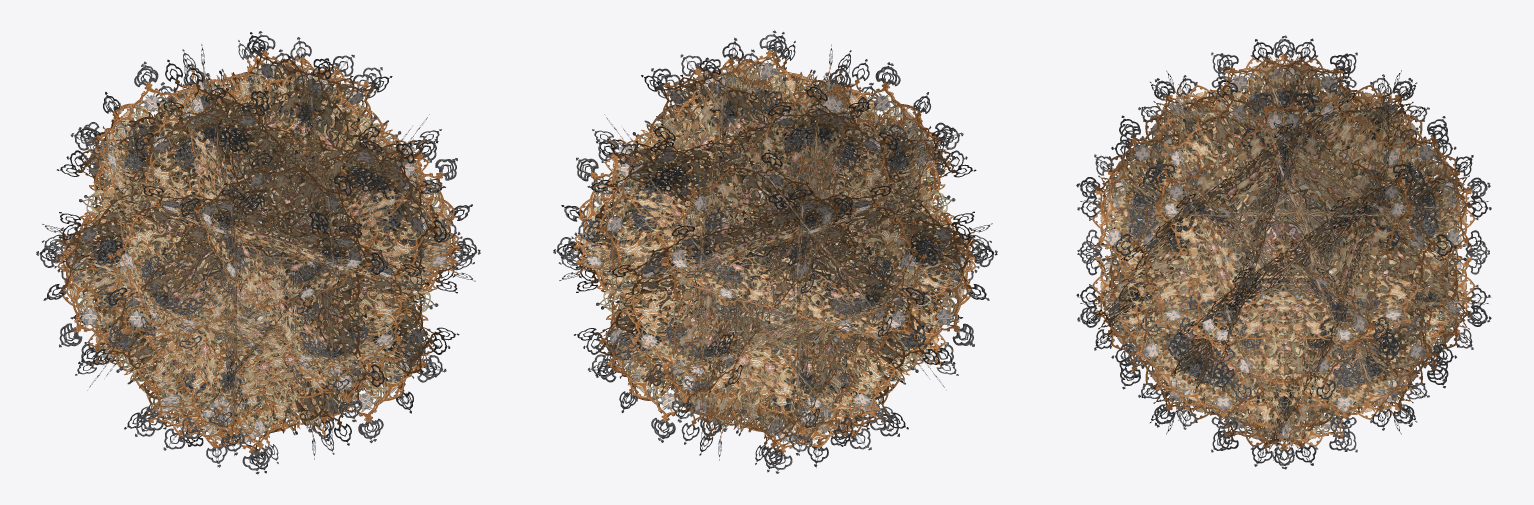
File: GreatTruncatedIcosidodecahedron3.gltf
The picture shows the model from 3 angles, left to right: view 1: azimuth 30°, elevation 25°; view 2: azimuth 150°, elevation 25°; view 3: azimuth 270°, elevation 25°; orthographic projection. The views are drawn at different scales.
Parts seen in each view (by area): view 1: GreatTruncatedIcosidodecahedron; view 2: GreatTruncatedIcosidodecahedron; view 3: GreatTruncatedIcosidodecahedron.
Boxes of the visible parts, left/top/right/bottom form: GreatTruncatedIcosidodecahedron: left=36, top=31, right=480, bottom=474; GreatTruncatedIcosidodecahedron: left=553, top=30, right=997, bottom=473; GreatTruncatedIcosidodecahedron: left=1076, top=35, right=1491, bottom=469.
Bounding box in the file's own units: 2 × 2 × 2.
Materials: 1 (1 with a texture image).
